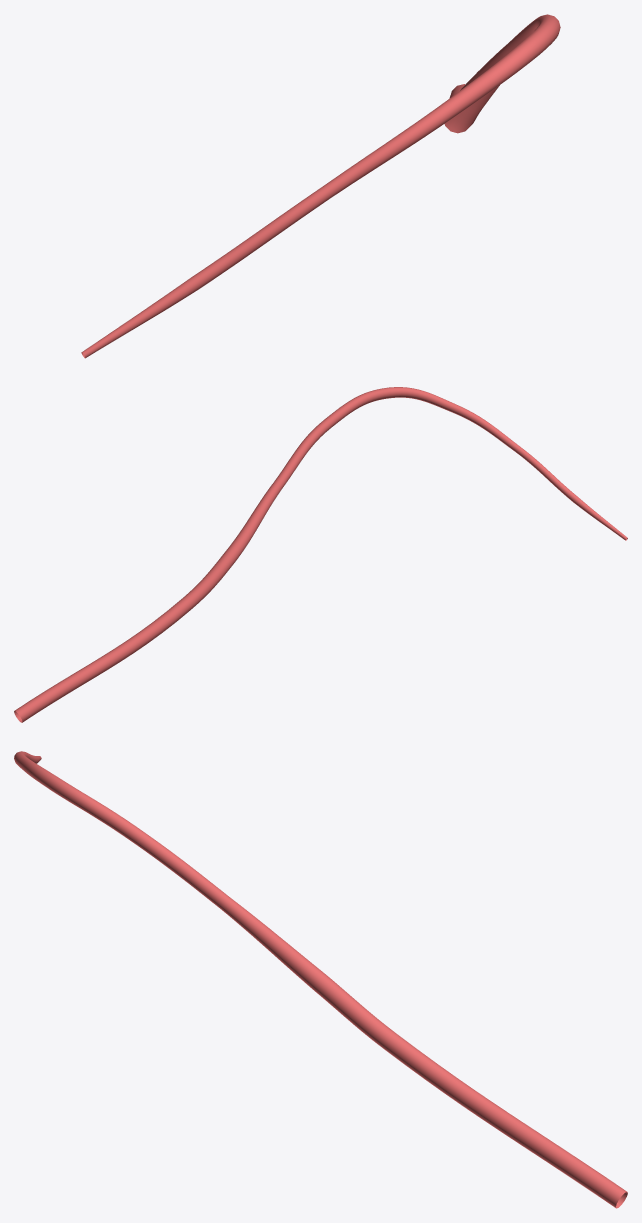
The model's file is Ascending_pharyngeal_artery.l.001_BezierCurve.235.glb.
3 renders of one model, top to bottom at view 1: azimuth 30°, elevation 25°; view 2: azimuth 150°, elevation 25°; view 3: azimuth 270°, elevation 25°, orthographic. The views are drawn at different scales.
Parts seen in each view (by area): view 1: Ascending_pharyngeal_artery.l.001_BezierCurve.235; view 2: Ascending_pharyngeal_artery.l.001_BezierCurve.235; view 3: Ascending_pharyngeal_artery.l.001_BezierCurve.235.
Boxes of the visible parts, bbox=[...] form: Ascending_pharyngeal_artery.l.001_BezierCurve.235: bbox=[81, 14, 560, 358]; Ascending_pharyngeal_artery.l.001_BezierCurve.235: bbox=[14, 387, 627, 722]; Ascending_pharyngeal_artery.l.001_BezierCurve.235: bbox=[14, 751, 627, 1208].
Bounding box in the file's own units: 0.0259 × 0.0139 × 0.0244.
